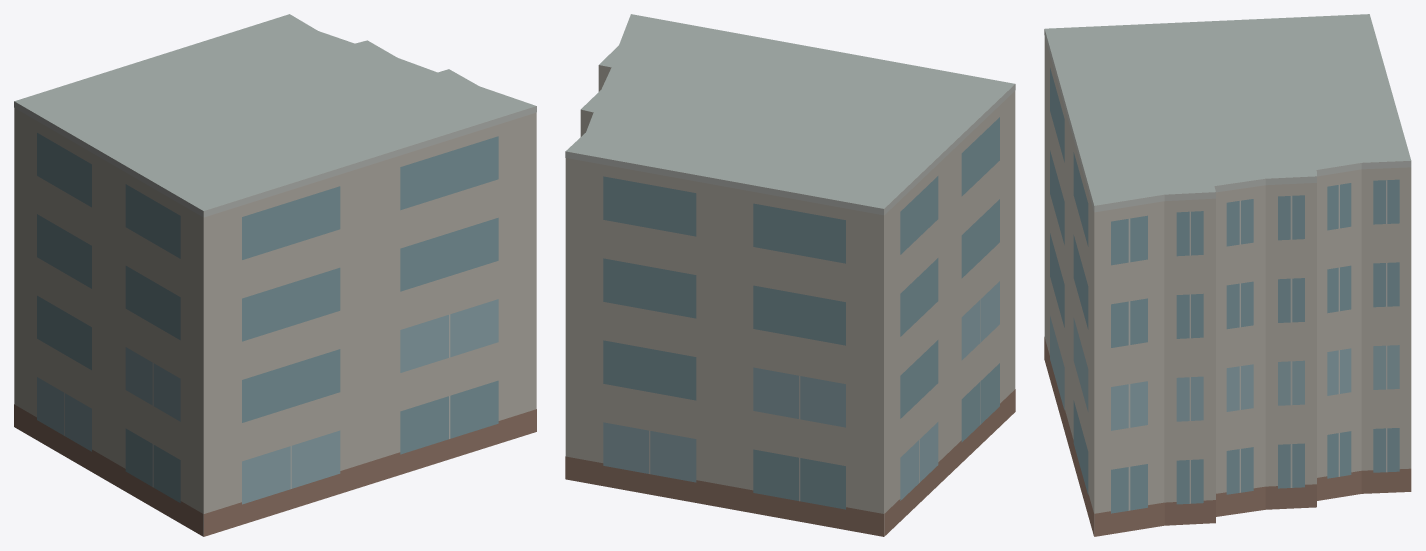
File: survey-upis-32520025.glb
The picture shows the model from 3 angles, left to right: view 1: azimuth 30°, elevation 25°; view 2: azimuth 150°, elevation 25°; view 3: azimuth 270°, elevation 25°; orthographic projection.
Parts seen in each view (by area): view 1: survey-upis-32520025.tmp; view 2: survey-upis-32520025.tmp; view 3: survey-upis-32520025.tmp.
Part boxes in pixels (x1,y1,x2,y2): survey-upis-32520025.tmp: (14, 14, 536, 536); survey-upis-32520025.tmp: (565, 14, 1015, 536); survey-upis-32520025.tmp: (1044, 14, 1411, 536).
Size of the model in its own units: 15.38 by 12.36 by 12.43.
